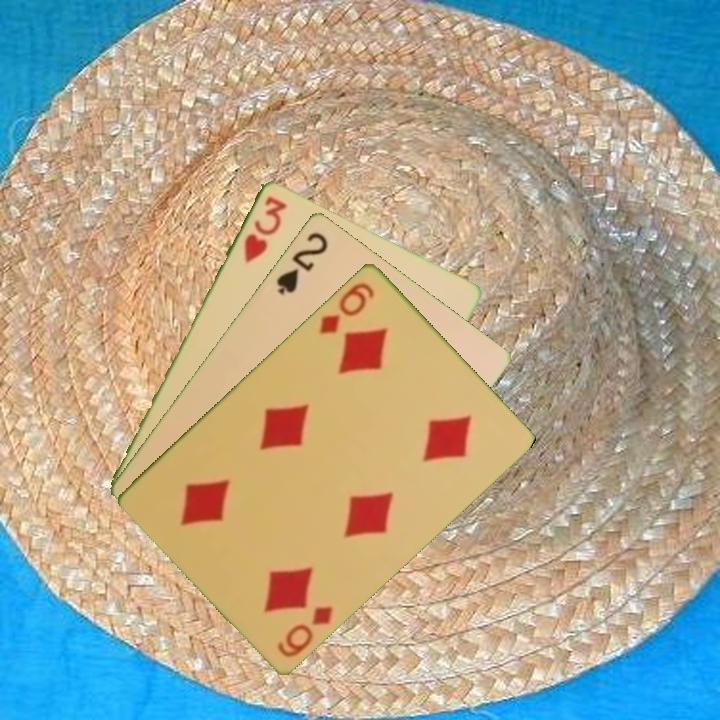2s: (273, 228, 331, 297)
3h: (240, 191, 290, 266)
6d: (315, 278, 378, 337), (273, 601, 336, 660)
